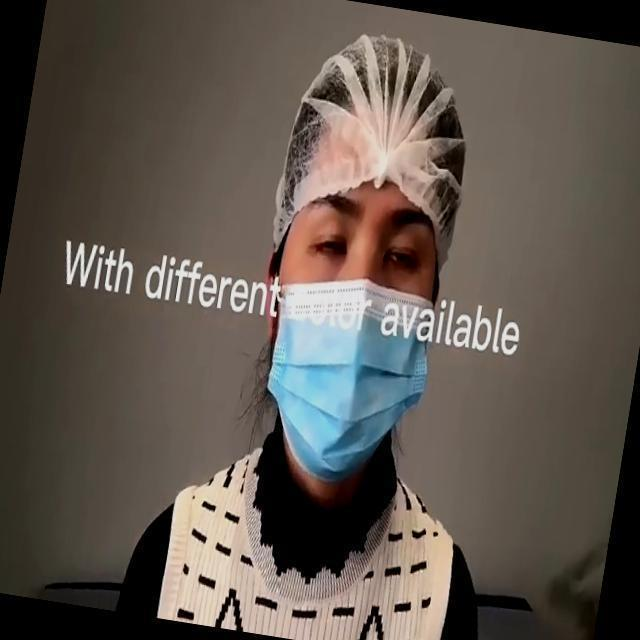gloves: (304, 26, 446, 191)
